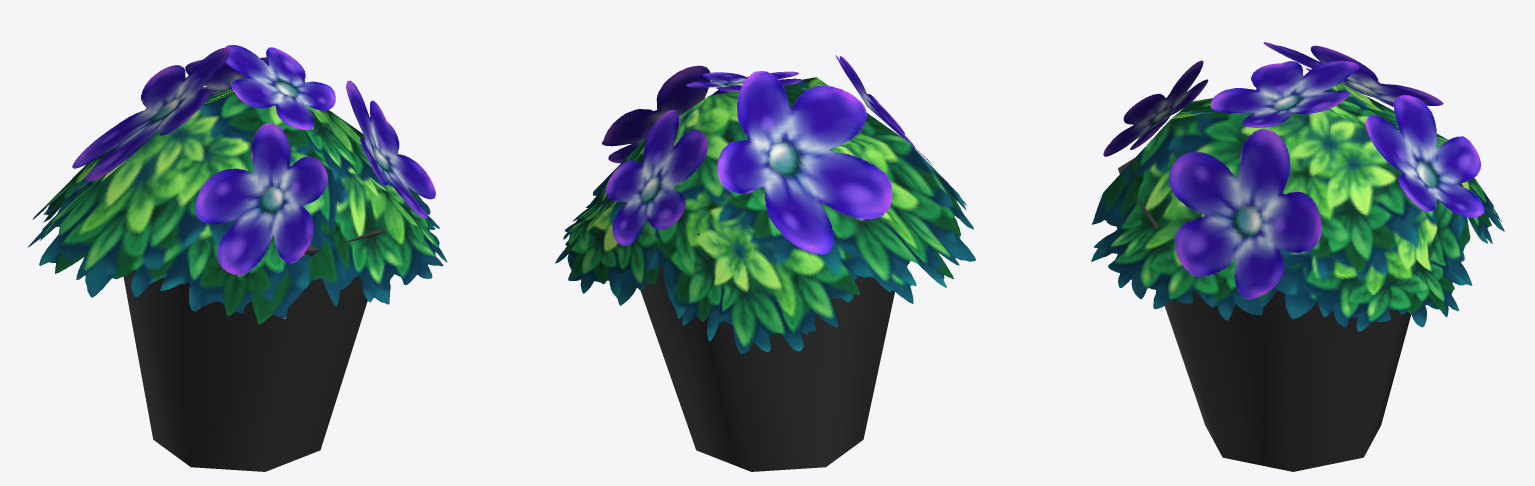
The model's file is SM_PROP_PLANT_pot_v2_01.FBX.
3 views of the same model, side by side, from view 1: azimuth 30°, elevation 25°; view 2: azimuth 150°, elevation 25°; view 3: azimuth 270°, elevation 25° (orthographic). The views are drawn at different scales.
Parts seen in each view (by area): view 1: SM_PROP_PLANT_pot_v2_01; view 2: SM_PROP_PLANT_pot_v2_01; view 3: SM_PROP_PLANT_pot_v2_01.
Part boxes in pixels (x1,y1,x2,y2): SM_PROP_PLANT_pot_v2_01: (27, 45, 447, 471); SM_PROP_PLANT_pot_v2_01: (555, 55, 975, 471); SM_PROP_PLANT_pot_v2_01: (1091, 42, 1504, 471).
Size of the model in its own units: 83.46 by 75.65 by 75.09.
